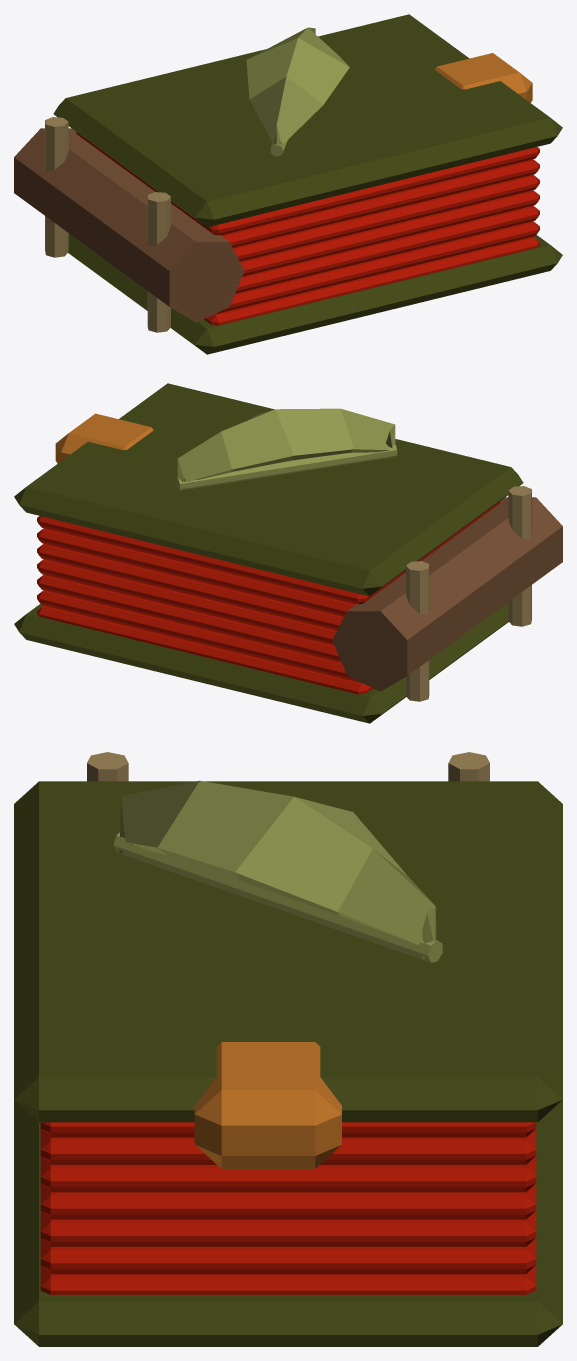
Rendered from leaf-ledger.glb.
3 renders of one model, top to bottom at view 1: azimuth 30°, elevation 25°; view 2: azimuth 150°, elevation 25°; view 3: azimuth 270°, elevation 25°, orthographic. The views are drawn at different scales.
Parts seen in each view (by area): view 1: leaf-ledger; view 2: leaf-ledger; view 3: leaf-ledger.
Part boxes in pixels (<box>): leaf-ledger: <box>14,14,562,354</box>; leaf-ledger: <box>14,383,562,723</box>; leaf-ledger: <box>14,752,562,1346</box>.
Size of the model in its own units: 1.28 by 0.6513 by 0.82.
